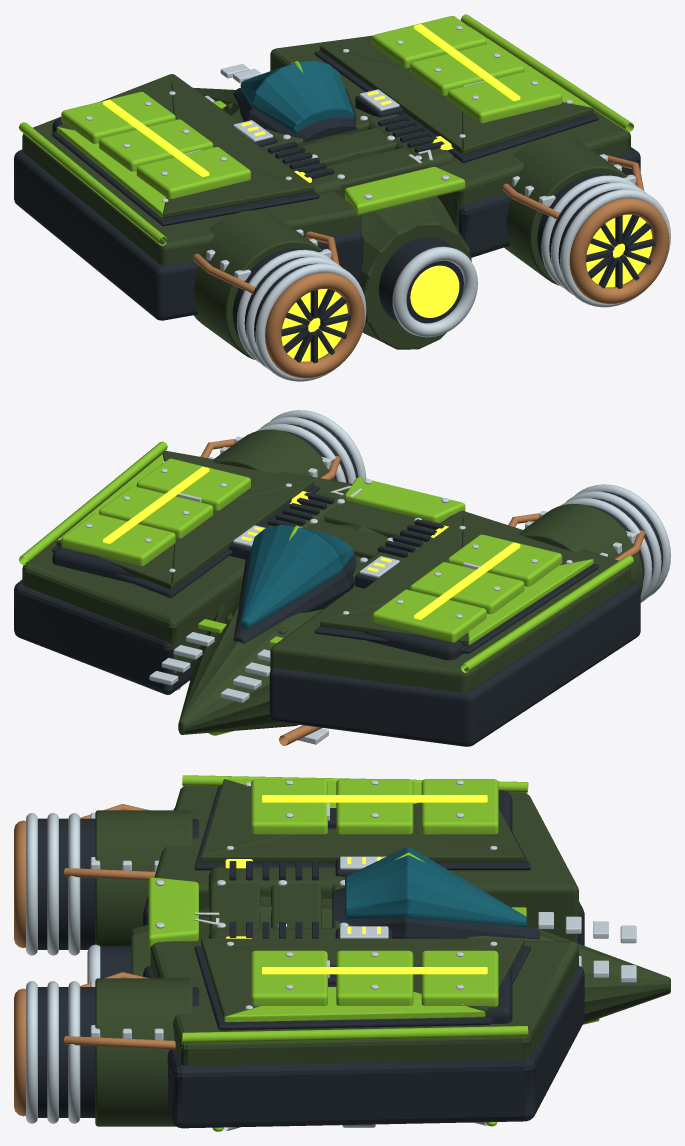
3 renders of one model, top to bottom at view 1: azimuth 30°, elevation 25°; view 2: azimuth 150°, elevation 25°; view 3: azimuth 270°, elevation 25°, orthographic. The views are drawn at different scales.
Parts seen in each view (by area): view 1: SolidHull_17; view 2: SolidHull_17; view 3: SolidHull_17.
Part boxes in pixels (x1,y1,x2,y2): SolidHull_17: (14, 14, 670, 381); SolidHull_17: (14, 410, 670, 746); SolidHull_17: (14, 775, 670, 1131).
Bounding box in the file's own units: 3 × 1.21 × 3.11.
